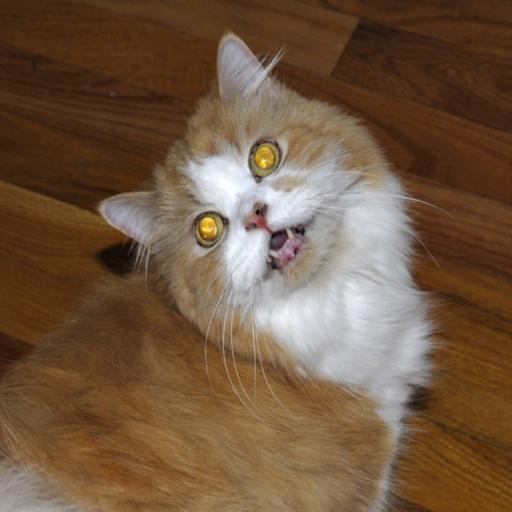cat: (0, 30, 440, 512)
